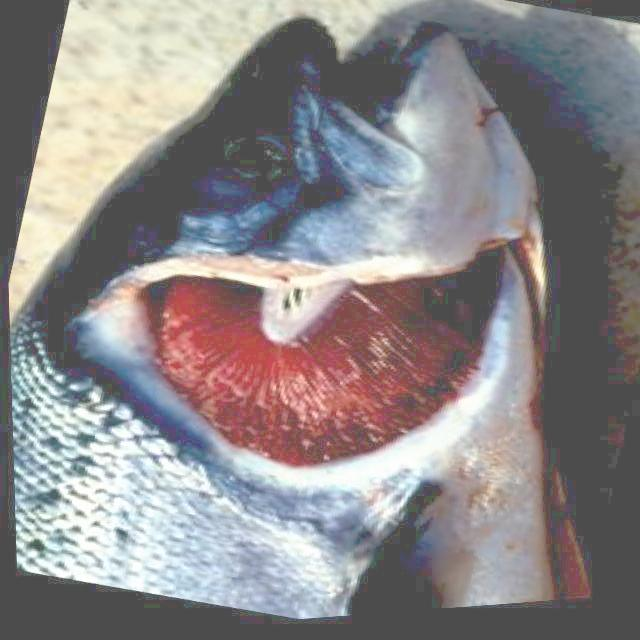Flavobacterium -Bacterial Gill Disease-: (12, 17, 557, 617), (11, 18, 554, 617)
